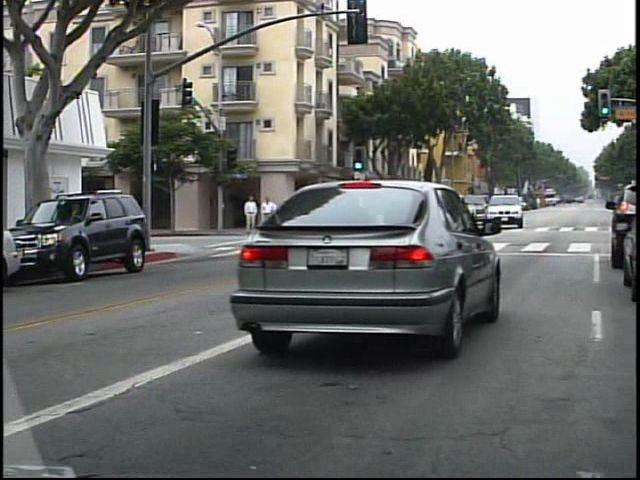person: (239, 191, 258, 239), (257, 194, 277, 235)
